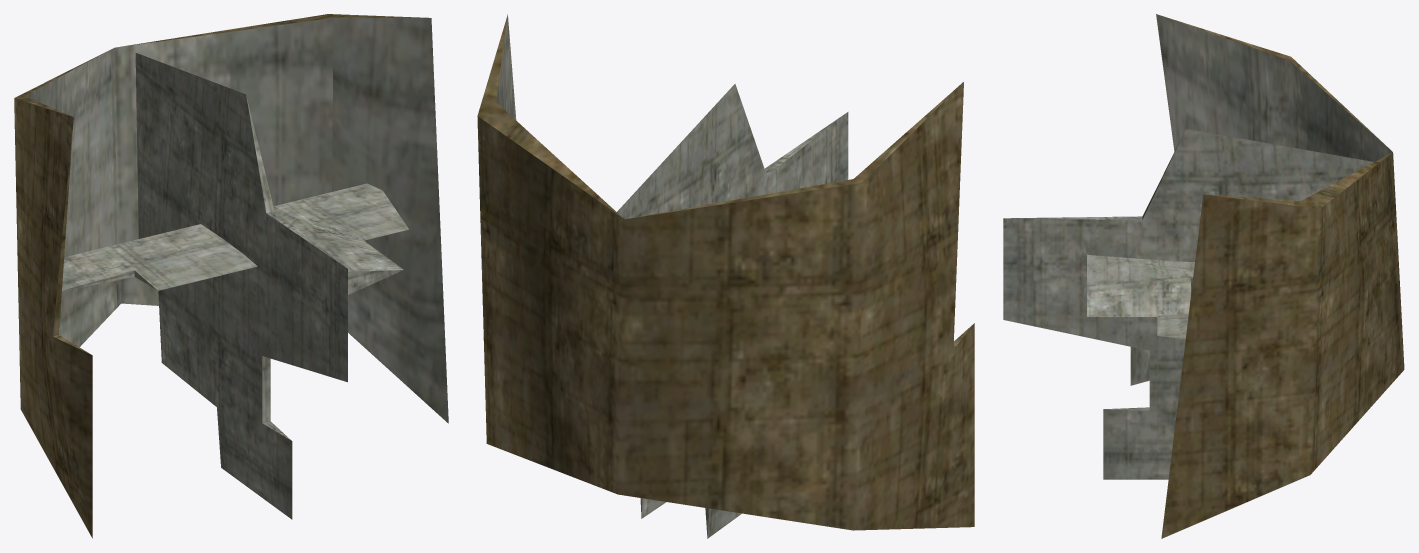
The model's file is thm_prp_junk_s3_l2.fbx.
The picture shows the model from 3 angles, left to right: view 1: azimuth 30°, elevation 25°; view 2: azimuth 150°, elevation 25°; view 3: azimuth 270°, elevation 25°; orthographic projection. The views are drawn at different scales.
Parts seen in each view (by area): view 1: mesh_node; view 2: mesh_node; view 3: mesh_node.
Part boxes in pixels (x1,y1,x2,y2): mesh_node: (14,14,448,538); mesh_node: (477,14,974,538); mesh_node: (1003,14,1404,538).
Size of the model in its own units: 5.84 by 6.11 by 5.8.
